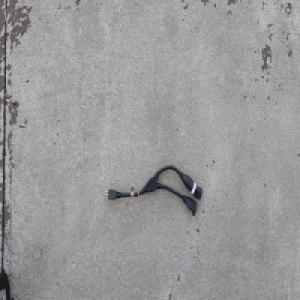Wire: (103, 164, 203, 217)
